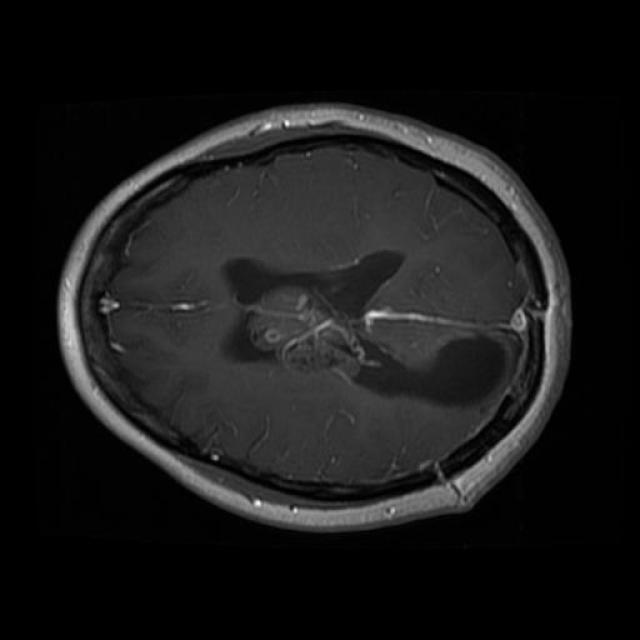Glioma: (246, 289, 507, 403)
